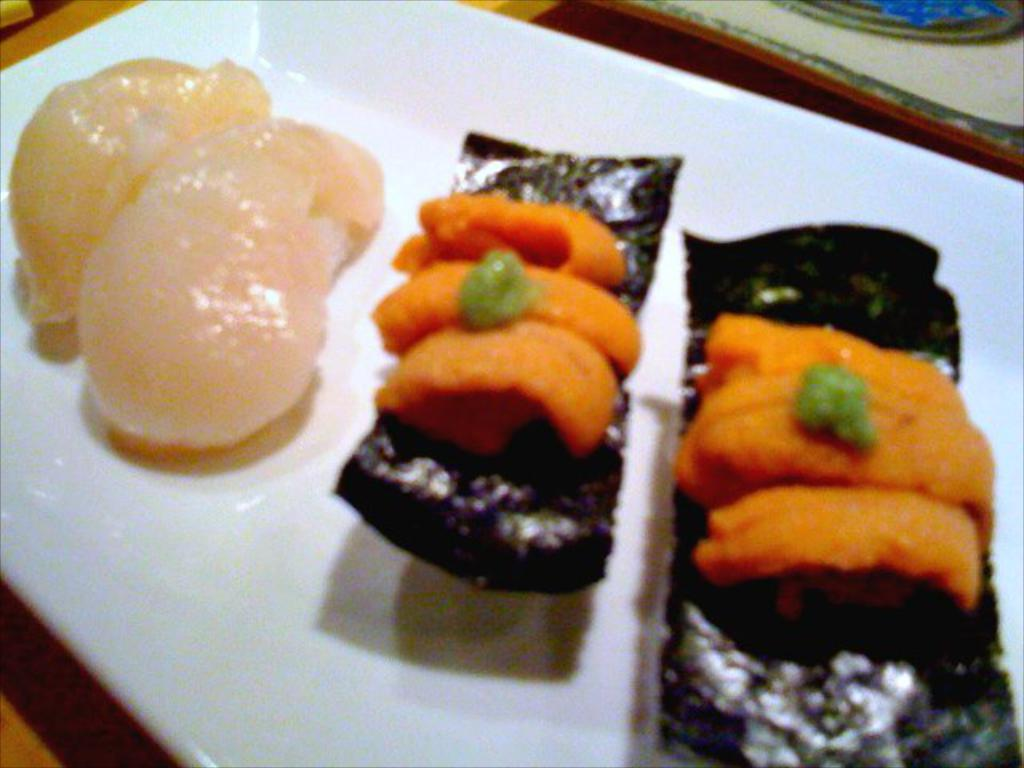sushi: (659, 229, 1022, 766), (331, 117, 678, 594), (67, 98, 392, 454), (14, 43, 275, 342)
